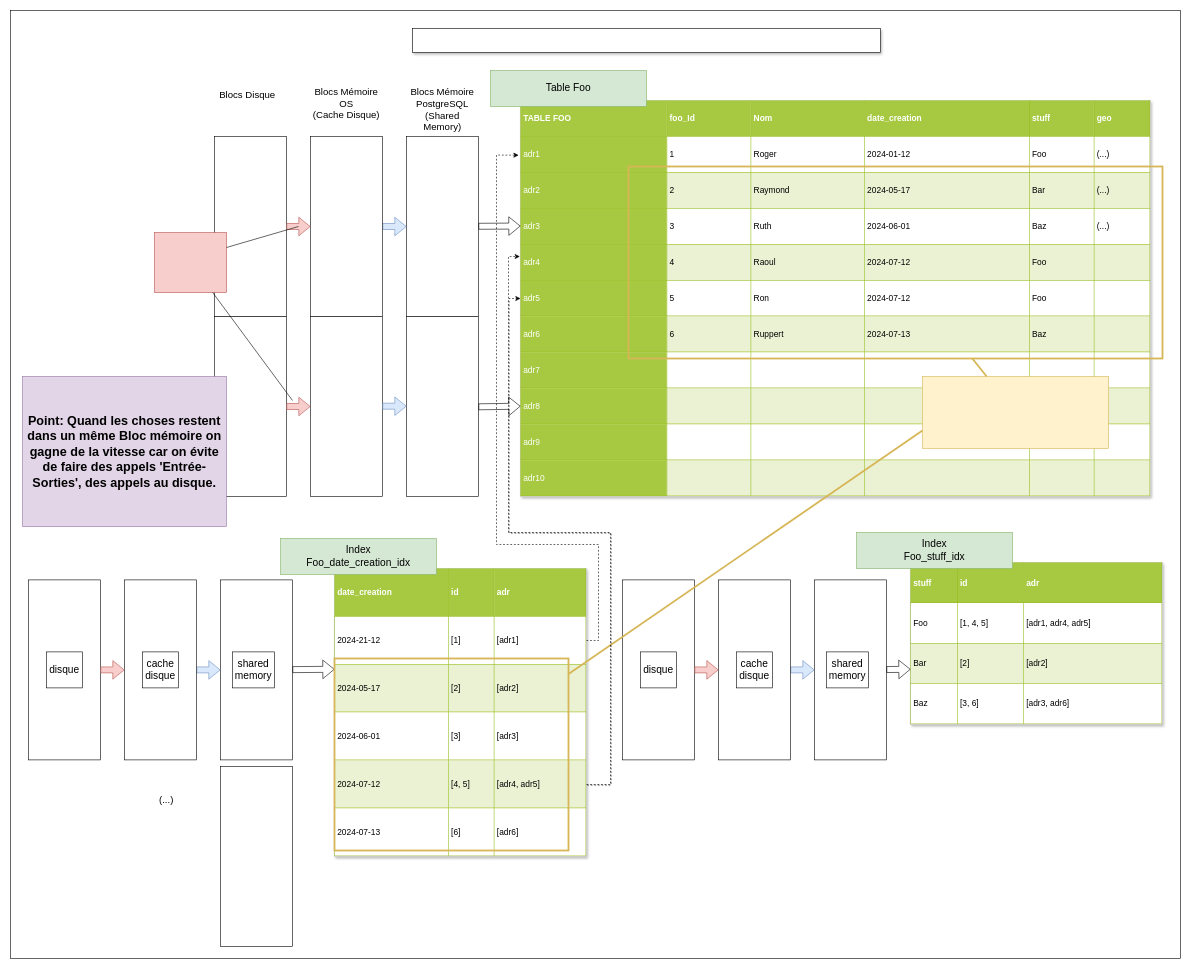
This 1191x969 diagram has some shape labels left out. Here are the shapes that lost their labels. From the top down, the centre of each, then its label:
At point 647,41: "Aperçu de la gestion physique d'une table".
At point 190,262: "Lenteur (Entrée/Sorties ou I/O".
At point 1015,412: "SELECT * FROM foo WHERE date_creation BETWEEN 2024-05-01 AND 2024-08-01".
